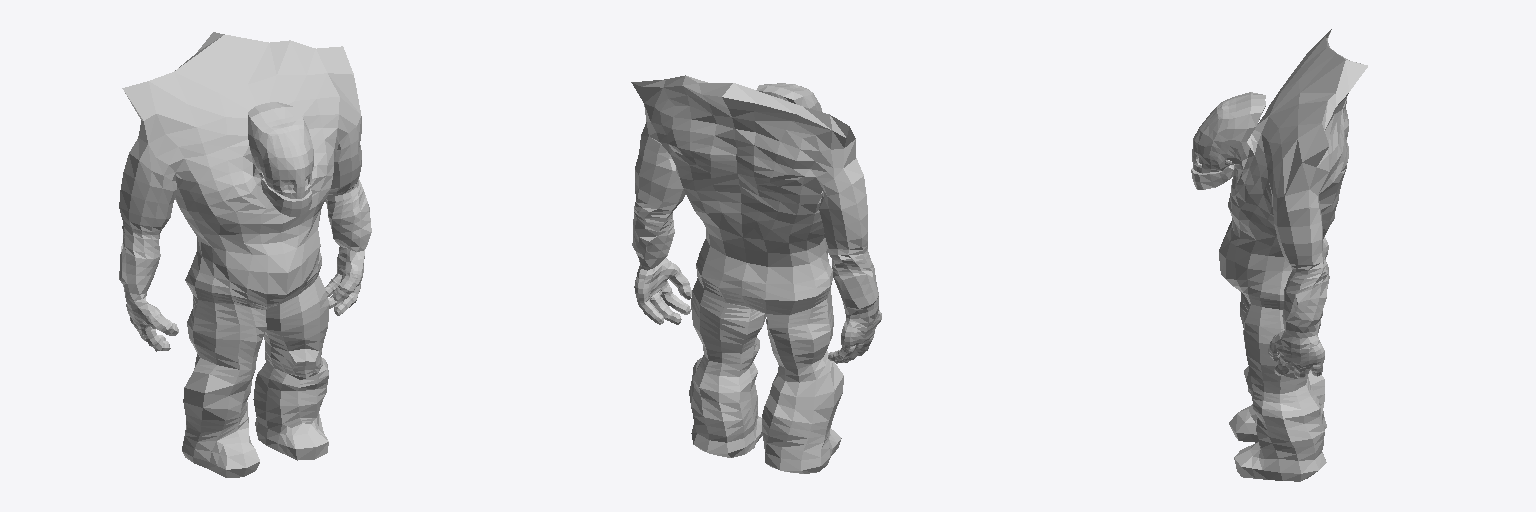
The model's file is golem_000016.obj.
The picture shows the model from 3 angles: view 1: azimuth 30°, elevation 25°; view 2: azimuth 150°, elevation 25°; view 3: azimuth 270°, elevation 25°; orthographic projection.
Visible parts, largest first — view 1: golem; view 2: golem; view 3: golem.
Part boxes in pixels (x1,y1,x2,y2): golem: (119,32,371,477); golem: (631,75,881,473); golem: (1191,29,1367,481).
Bounding box in the file's own units: 7.35 × 11.29 × 4.62.